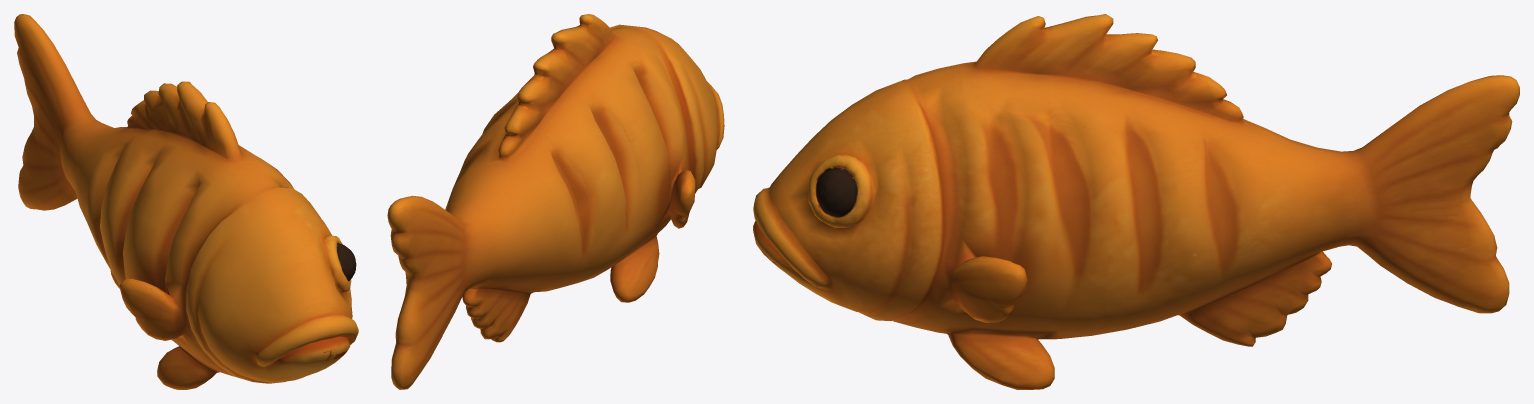
Rendered from selected.glb.
3 renders of one model, left to right at view 1: azimuth 30°, elevation 25°; view 2: azimuth 150°, elevation 25°; view 3: azimuth 270°, elevation 25°, orthographic. The views are drawn at different scales.
Visible parts, largest first — view 1: tripo_node_ecc6d17e-2b23-40d0-aaeb-399e0b62edce; view 2: tripo_node_ecc6d17e-2b23-40d0-aaeb-399e0b62edce; view 3: tripo_node_ecc6d17e-2b23-40d0-aaeb-399e0b62edce.
Boxes of the visible parts, x1,y1,x2,y2 form: tripo_node_ecc6d17e-2b23-40d0-aaeb-399e0b62edce: (14,14,358,389); tripo_node_ecc6d17e-2b23-40d0-aaeb-399e0b62edce: (387,14,724,389); tripo_node_ecc6d17e-2b23-40d0-aaeb-399e0b62edce: (753,14,1519,389).
Bounding box in the file's own units: 0.3809 × 0.4902 × 0.998.
Materials: 1 (1 with a texture image).
